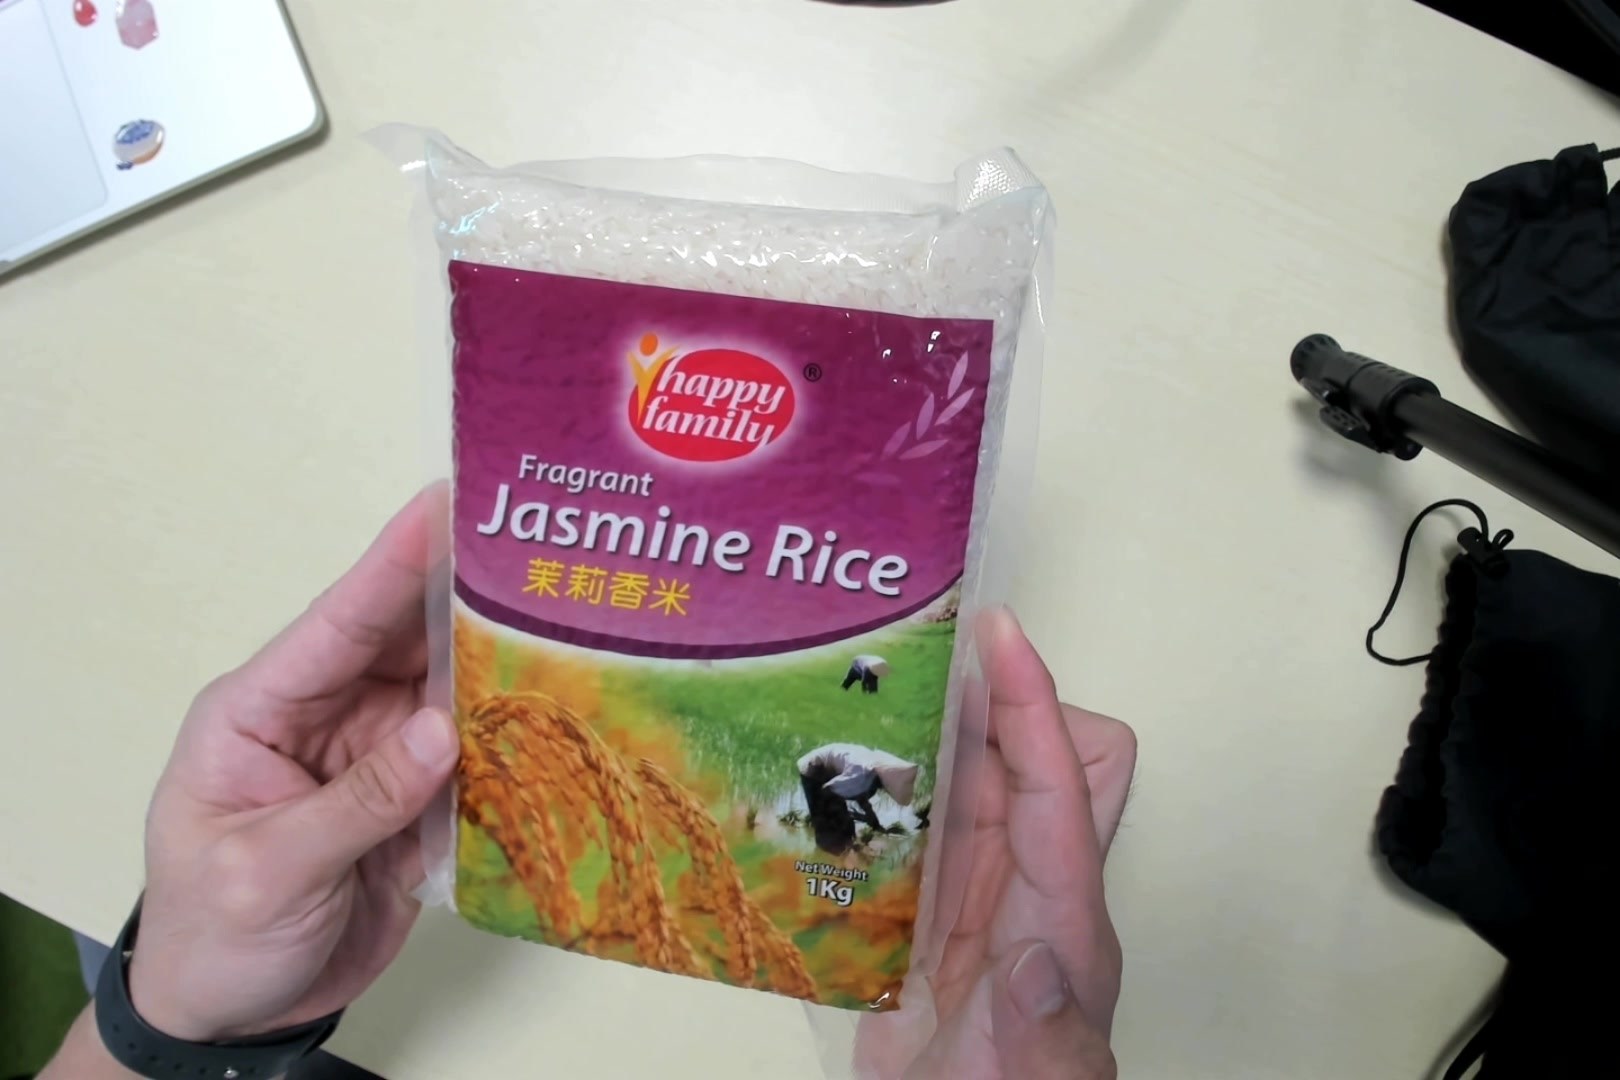Rice(White)_1000-1999g_NonHalal_NonHealthy: (419, 143, 1012, 1012)
